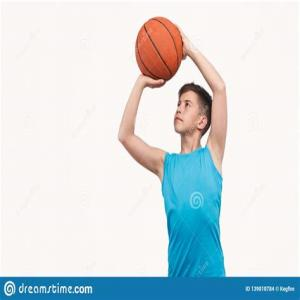Basket: (136, 17, 182, 86)
